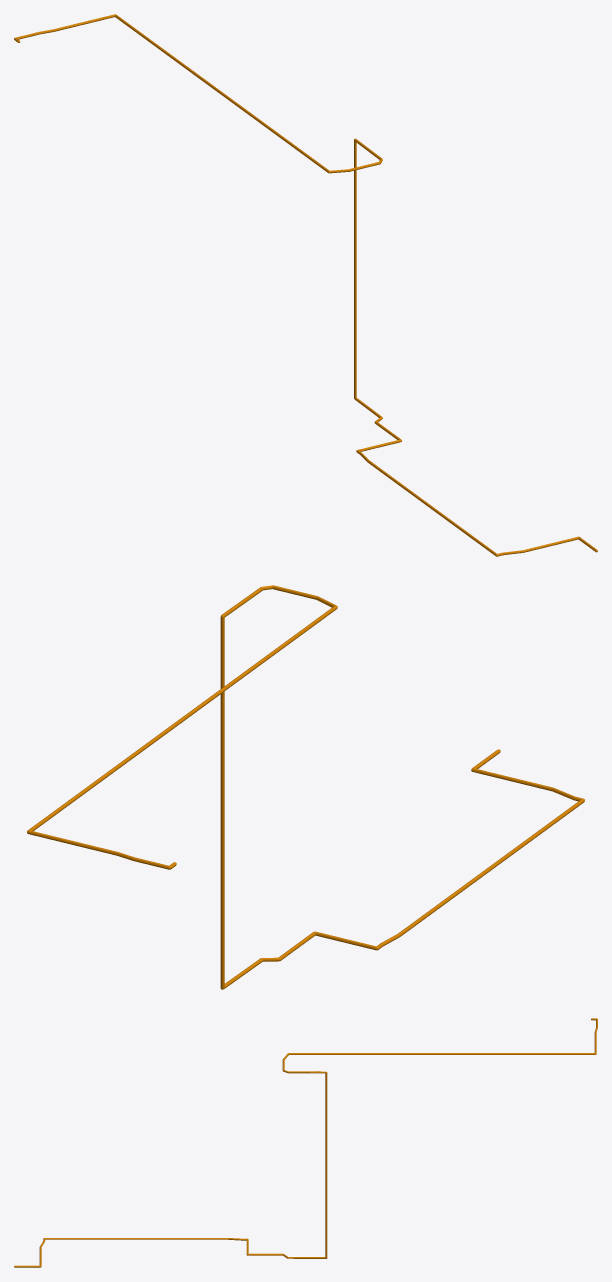
3 views of the same model, one above another, from view 1: azimuth 30°, elevation 25°; view 2: azimuth 150°, elevation 25°; view 3: azimuth 270°, elevation 25° (orthographic). The views are drawn at different scales.
Size of the model in its own units: 1446 by 2020 by 5705.
